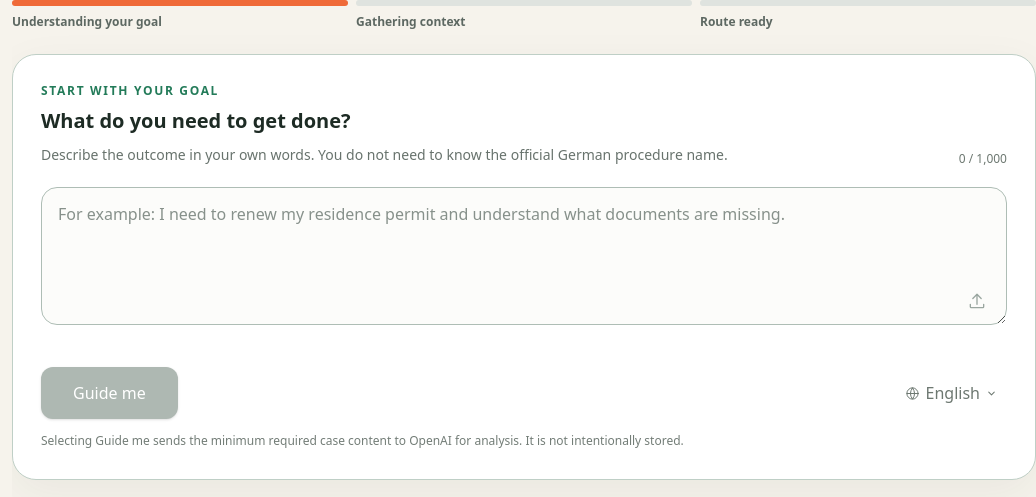
CaseWorkspace › shows a clear error for a blank or too-short goal
In the text box named "What do you need to get done?": point(524, 256) [41, 187, 1007, 325], type "Too short"
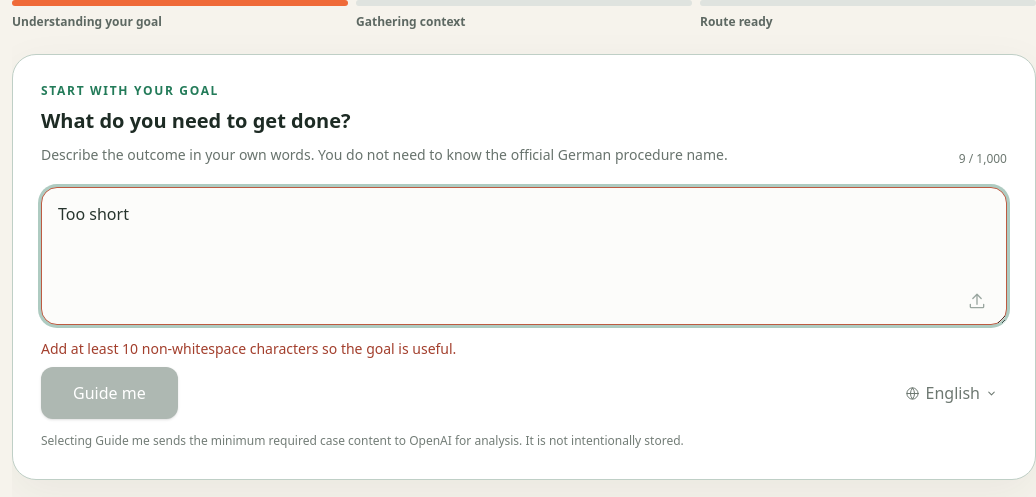
Expected: the button "Guide me" is disabled, [41, 367, 178, 419]
Now the message shows "Add at least 10 non-whitespace characters", box [41, 339, 456, 358]
